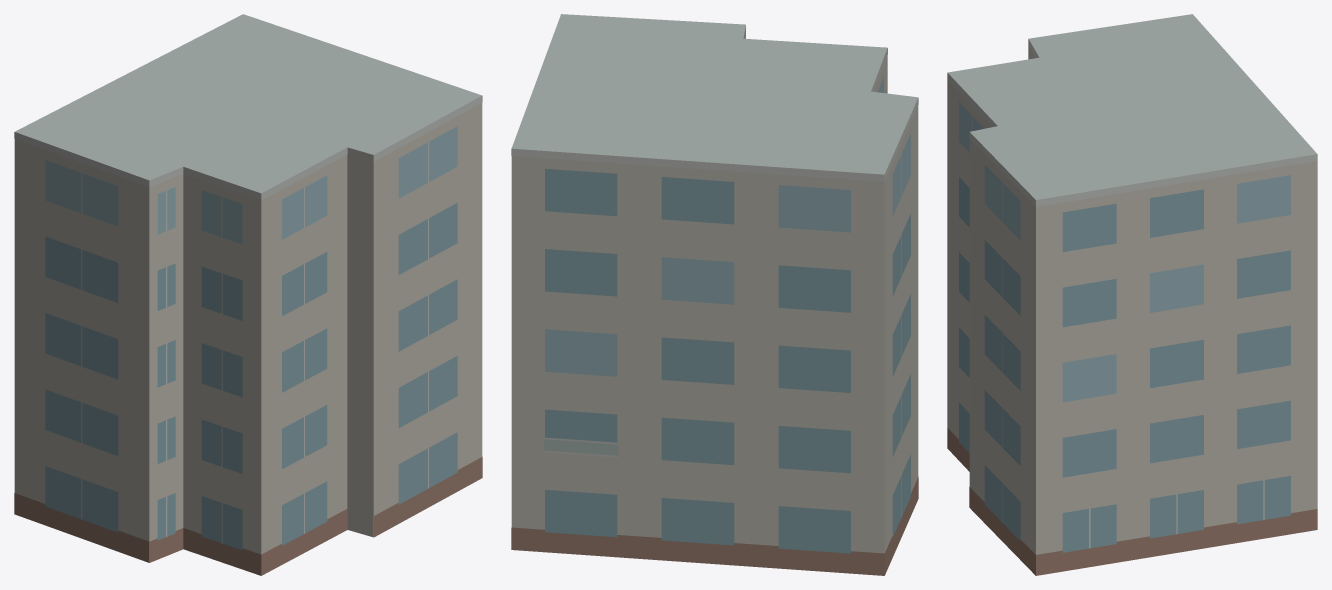
Rendered from survey-upis-32860297.glb.
3 renders of one model, left to right at view 1: azimuth 30°, elevation 25°; view 2: azimuth 150°, elevation 25°; view 3: azimuth 270°, elevation 25°, orthographic. The views are drawn at different scales.
Visible parts, largest first — view 1: survey-upis-32860297.tmp; view 2: survey-upis-32860297.tmp; view 3: survey-upis-32860297.tmp.
Boxes of the visible parts, box(x1,y1,x2,y2) form: survey-upis-32860297.tmp: box(14, 14, 482, 575); survey-upis-32860297.tmp: box(511, 14, 918, 575); survey-upis-32860297.tmp: box(947, 14, 1317, 575).
Size of the model in its own units: 14.19 by 13.35 by 11.93.
